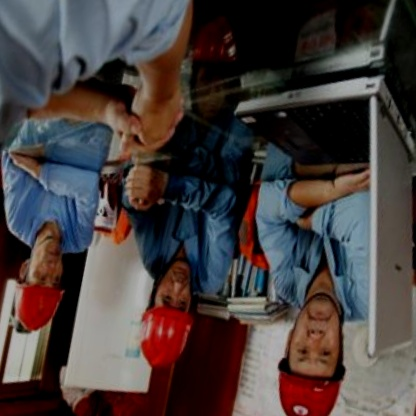red: (124, 297, 199, 377), (257, 356, 354, 416), (0, 274, 68, 344)
